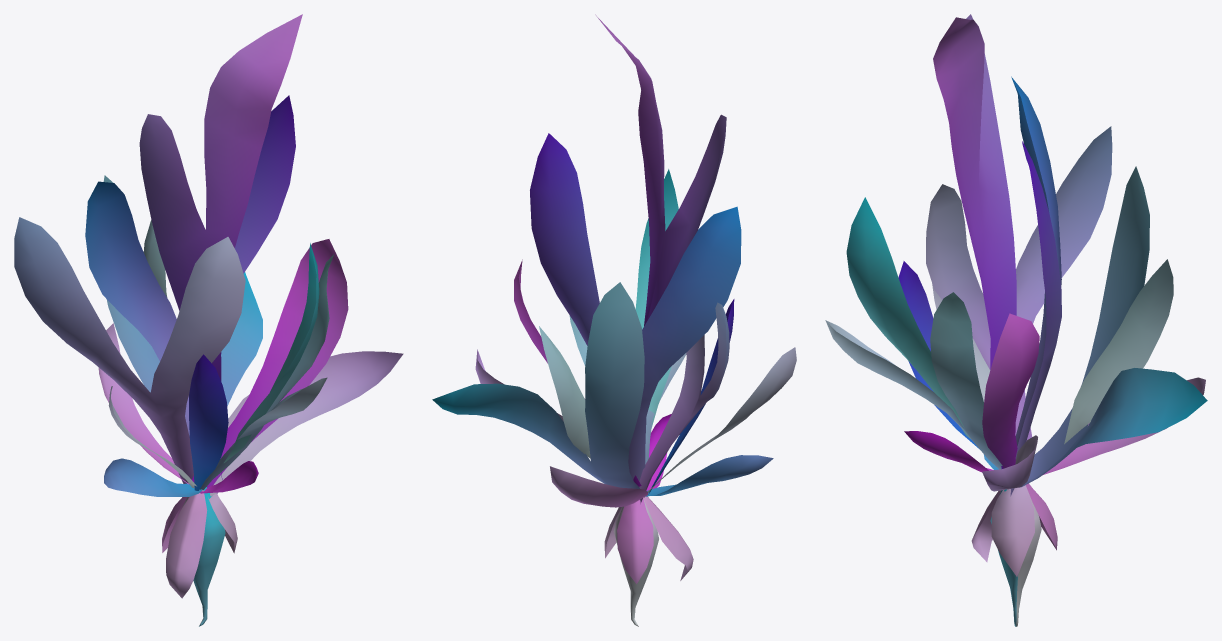
The picture shows the model from 3 angles, left to right: view 1: azimuth 30°, elevation 25°; view 2: azimuth 150°, elevation 25°; view 3: azimuth 270°, elevation 25°; orthographic projection. The views are drawn at different scales.
Parts seen in each view (by area): view 1: SM_Mace_Mithril_1H_01_LOD0; view 2: SM_Mace_Mithril_1H_01_LOD0; view 3: SM_Mace_Mithril_1H_01_LOD0.
Part boxes in pixels (<box>): SM_Mace_Mithril_1H_01_LOD0: <box>14,14,403,626</box>; SM_Mace_Mithril_1H_01_LOD0: <box>432,14,796,626</box>; SM_Mace_Mithril_1H_01_LOD0: <box>825,14,1207,626</box>.
Bounding box in the file's own units: 0.4453 × 0.7986 × 0.4272.
